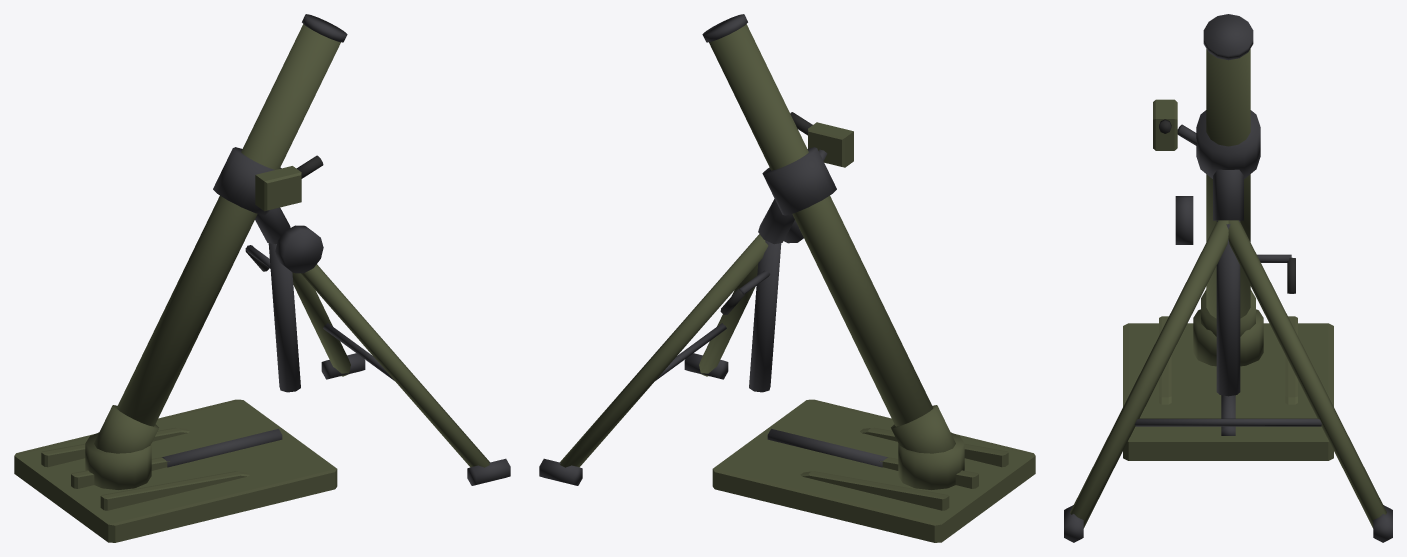
The model's file is mortar_set.fbx.
3 views of the same model, side by side, from view 1: azimuth 30°, elevation 25°; view 2: azimuth 150°, elevation 25°; view 3: azimuth 270°, elevation 25° (orthographic). The views are drawn at different scales.
Visible parts, largest first — view 1: mortar_set; view 2: mortar_set; view 3: mortar_set.
Part boxes in pixels (x1,y1,x2,y2): mortar_set: (14, 14, 510, 542); mortar_set: (539, 14, 1035, 542); mortar_set: (1064, 14, 1392, 542).
Size of the model in its own units: 0.65 by 0.7287 by 0.4677.
Materials: 1 (1 with a texture image).
